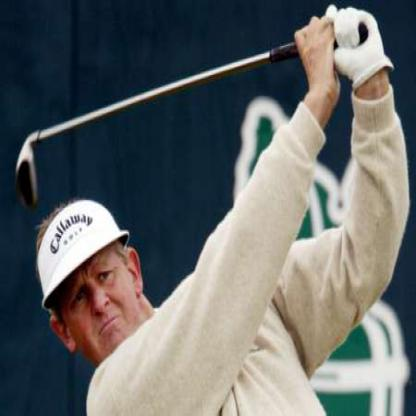face: (53, 203, 134, 369)
